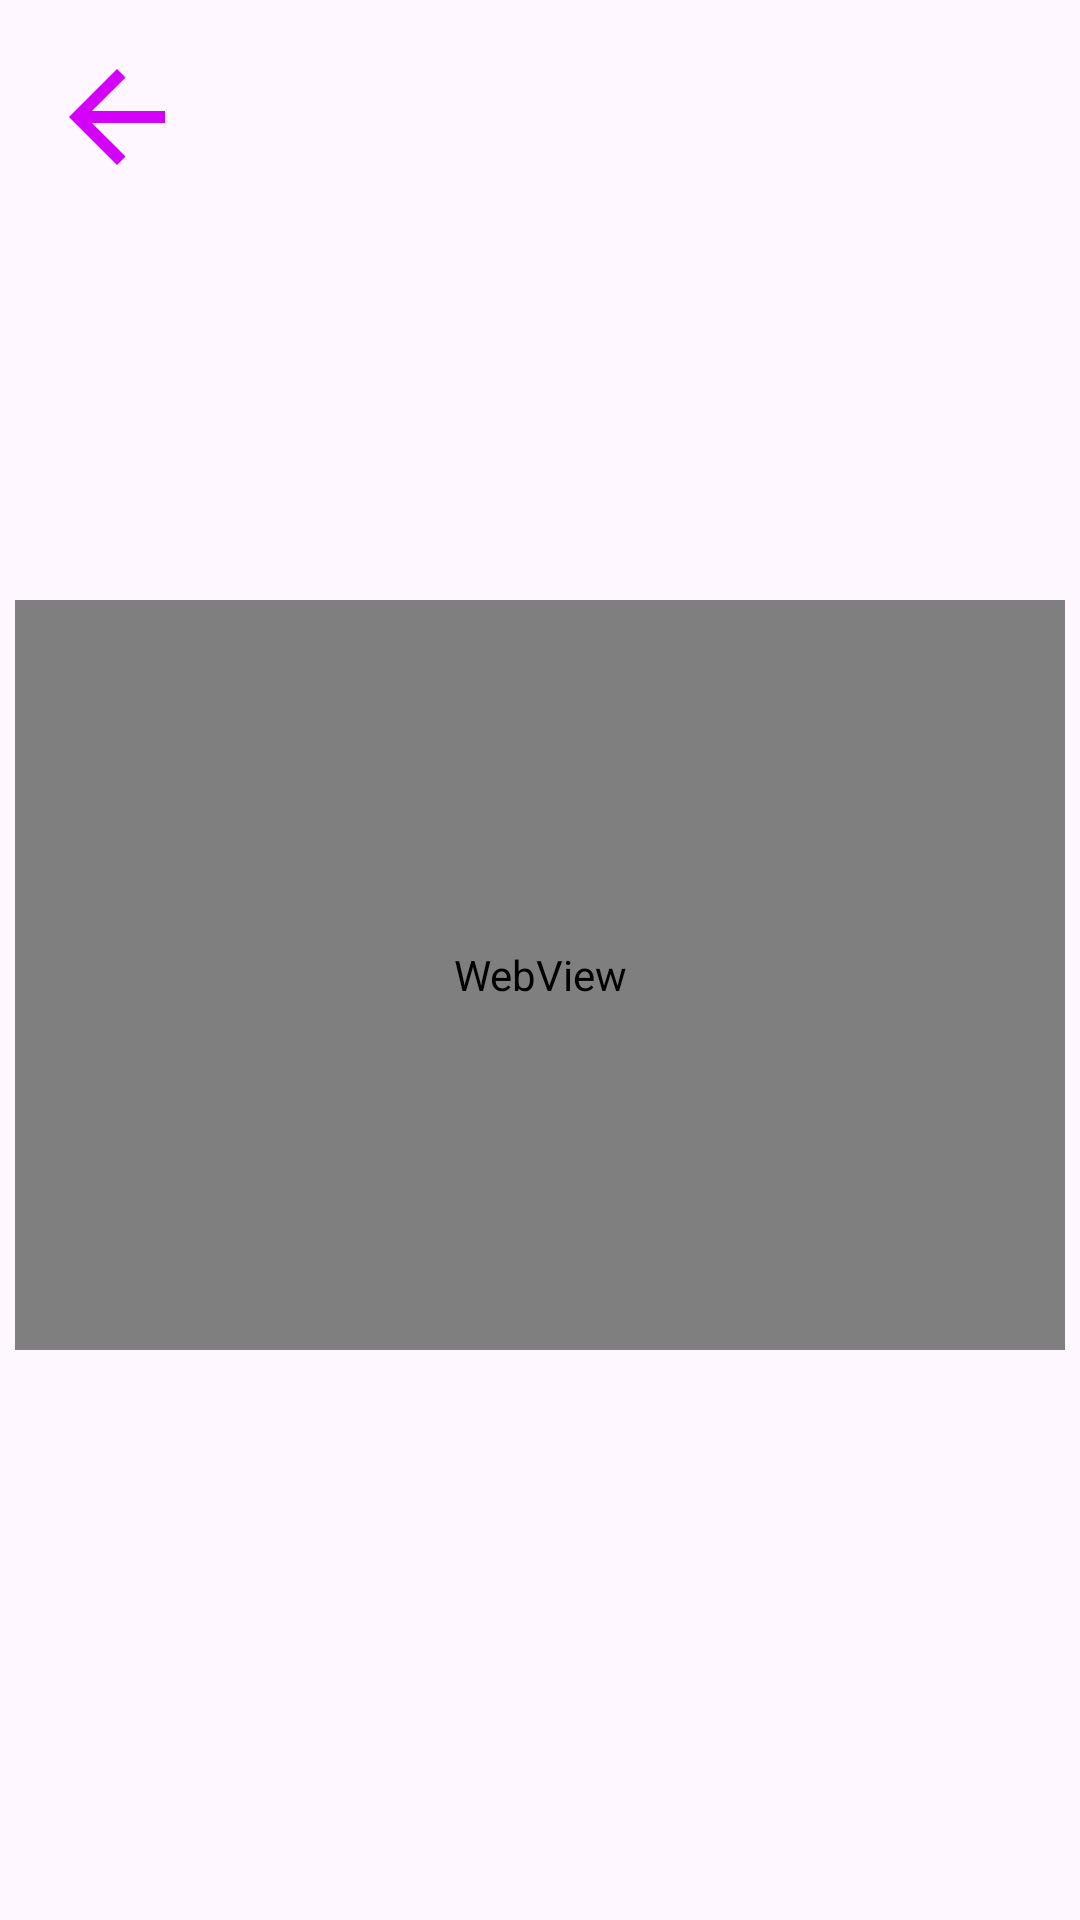

Screen size 1080px x 1920px. Icon name, then its center in pixels as (x,y):
arrow back: (117,117)
